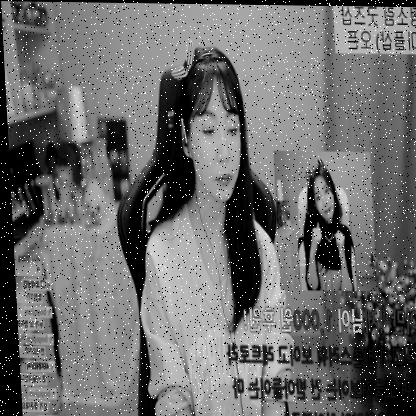donation: (213, 145, 416, 416)
streamer: (128, 38, 289, 416)
